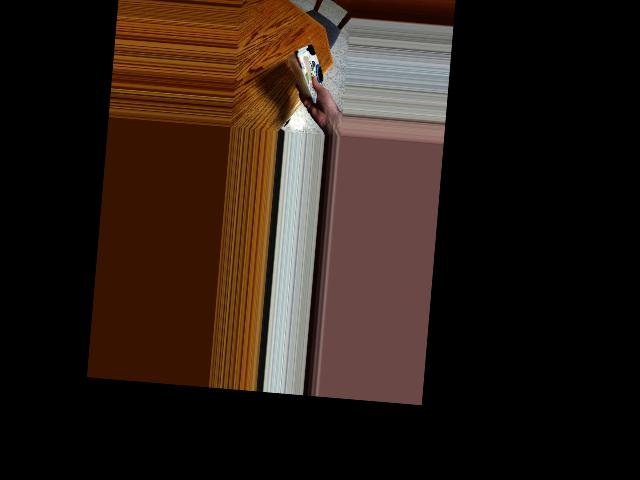cheese: (286, 45, 334, 95)
